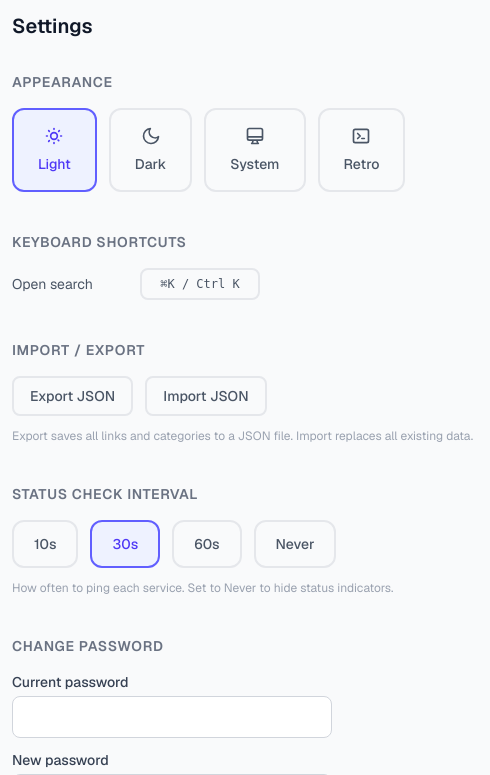
Scenario: settings saves report failure › reports a network failure
Click the button "Never" at (295, 544), box [254,520,336,568]
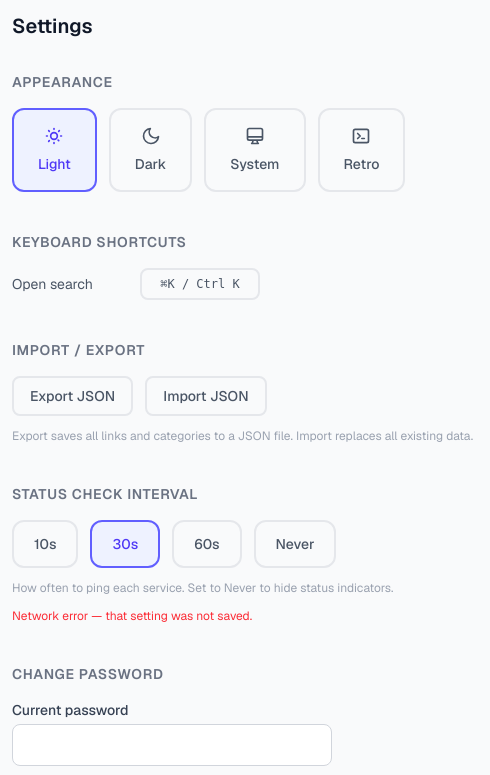
Now the text "Network error — that setting was not saved." is shown, box [12,608,252,624]
